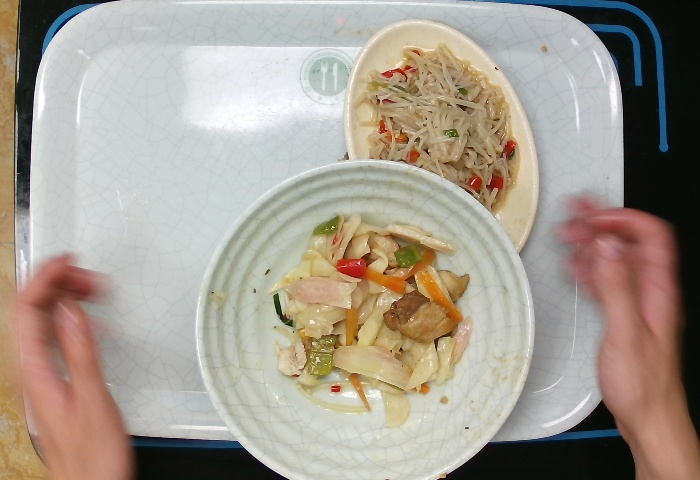JYsf-Da_Tang_Wan: (191, 155, 539, 479)
JYsf-Tuo_Yuan_Wan: (339, 17, 545, 268)
